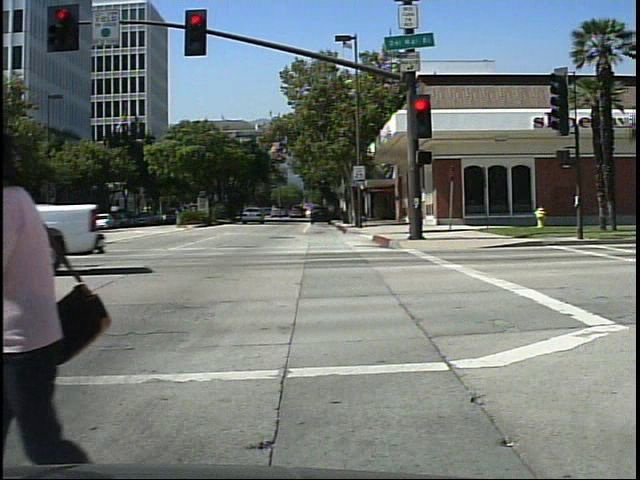person: (0, 103, 114, 465)
